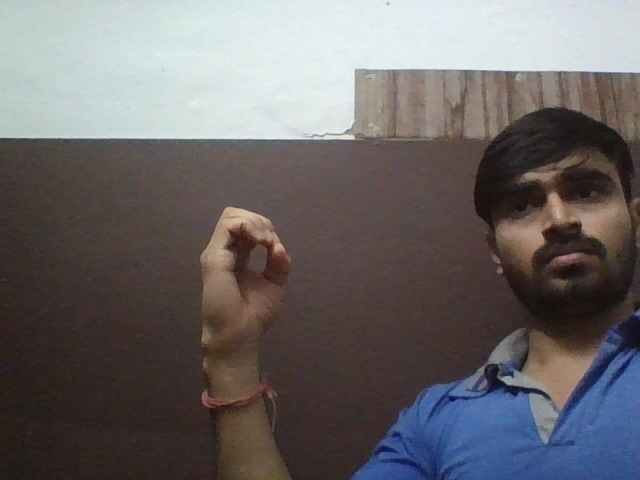O: (187, 197, 308, 361)
